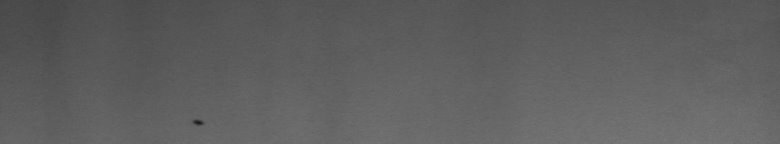fi: (192, 112, 207, 132)
